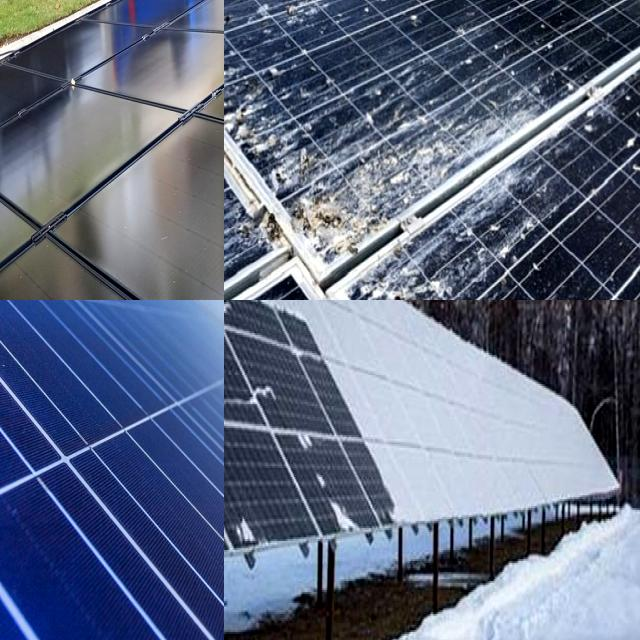bird: (366, 227, 455, 300), (288, 151, 350, 255), (487, 158, 540, 259), (224, 205, 284, 250), (614, 124, 640, 201), (224, 259, 271, 300), (224, 84, 259, 131), (389, 0, 427, 25), (293, 0, 324, 27), (224, 3, 238, 44), (224, 0, 239, 20)
crack: (14, 430, 224, 640), (0, 339, 135, 640)
panel: (314, 300, 436, 446), (448, 364, 536, 490), (286, 422, 358, 547), (534, 392, 618, 497), (224, 300, 304, 386), (384, 462, 438, 527), (224, 356, 279, 407), (227, 500, 276, 550), (224, 300, 277, 330)
